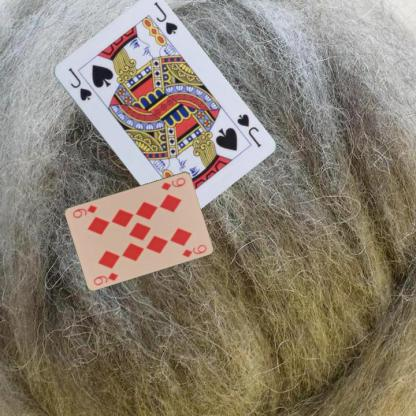9d: (158, 174, 187, 192), (91, 270, 119, 286)
Js: (233, 111, 262, 149), (65, 65, 93, 102)
